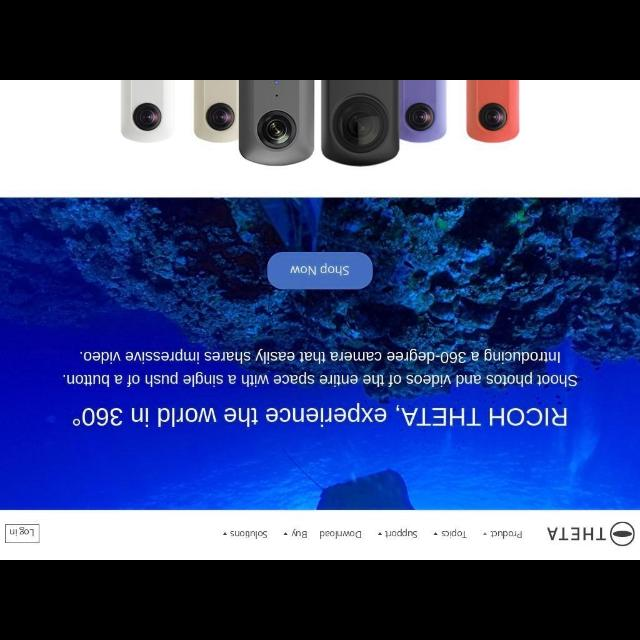backgroundimage: (1, 197, 640, 511)
icon: (482, 530, 488, 538), (221, 530, 227, 536), (432, 532, 438, 536), (377, 532, 383, 536), (282, 532, 288, 536)
image: (106, 81, 528, 181), (545, 522, 633, 552)
spinner: (216, 524, 272, 546), (478, 526, 528, 546), (426, 525, 472, 545), (374, 526, 420, 544), (277, 524, 313, 546)
text: (59, 344, 578, 394), (65, 404, 572, 436), (288, 263, 349, 279), (229, 528, 267, 542), (320, 528, 362, 540), (8, 526, 34, 540), (490, 530, 524, 540), (384, 529, 418, 539), (440, 530, 468, 540), (292, 530, 310, 540)
textbutton: (266, 252, 376, 294), (2, 523, 42, 545)
toolbar: (1, 512, 639, 558)
